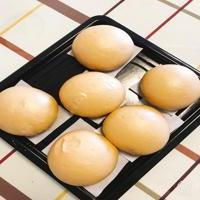biodegradable: (46, 128, 120, 186), (101, 105, 171, 156), (58, 72, 126, 118), (0, 86, 59, 138), (138, 63, 200, 112), (71, 23, 134, 71)
